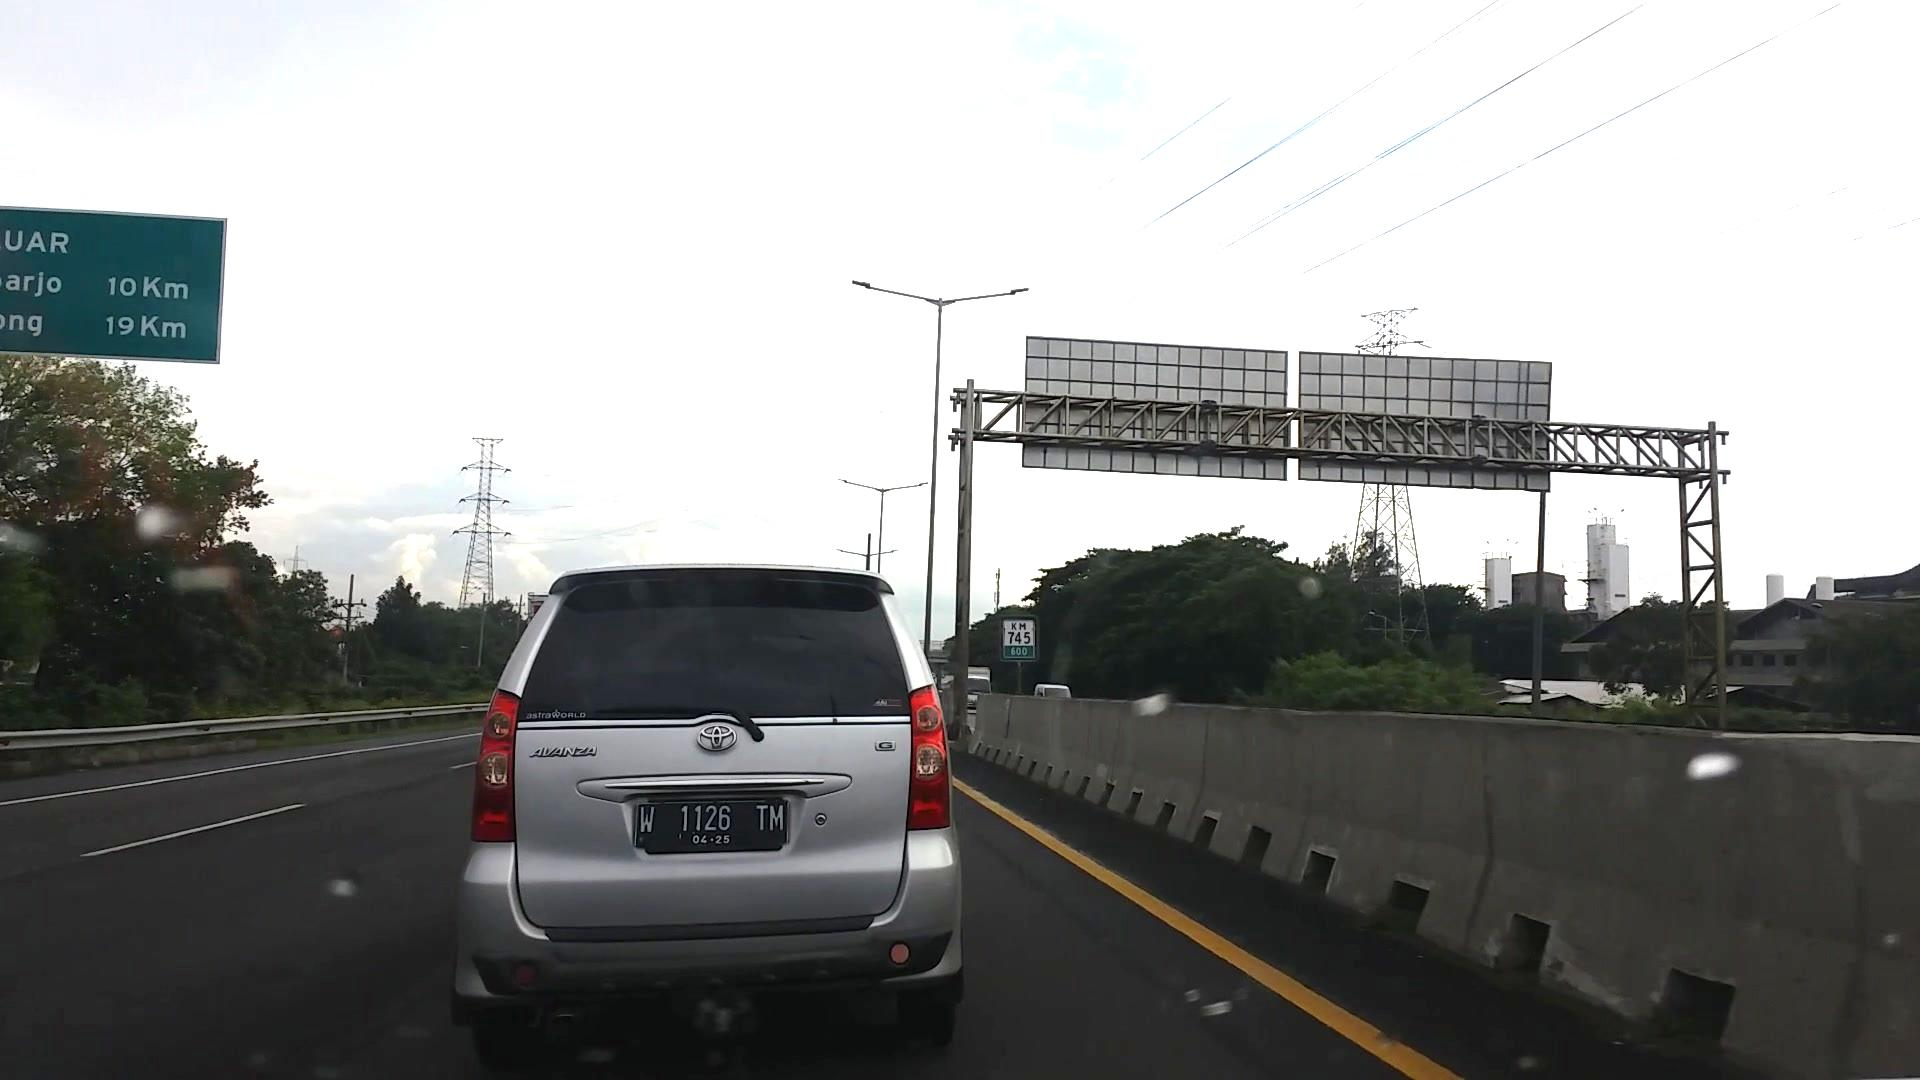plate_positive: (634, 802, 789, 847)
